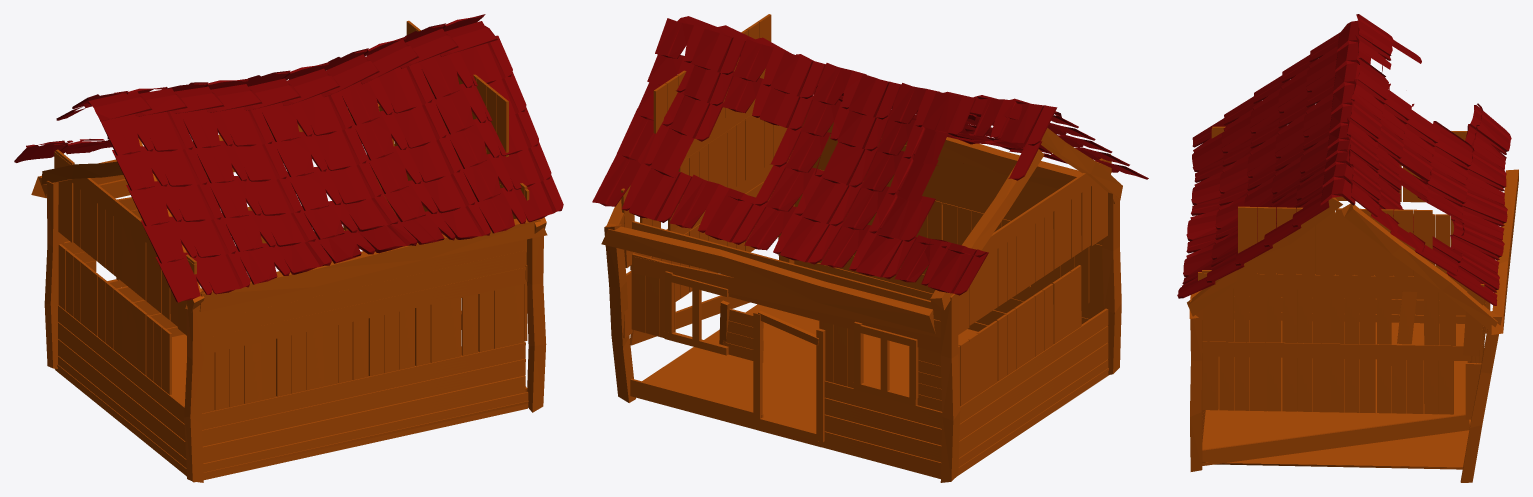
Rendered from House1.fbx.
The picture shows the model from 3 angles, left to right: view 1: azimuth 30°, elevation 25°; view 2: azimuth 150°, elevation 25°; view 3: azimuth 270°, elevation 25°; orthographic projection. The views are drawn at different scales.
Parts seen in each view (by area): view 1: House; view 2: House; view 3: House.
Boxes of the visible parts, x1=… form: House: x1=14, y1=14, x2=563, y2=482; House: x1=592, y1=14, x2=1148, y2=482; House: x1=1177, y1=14, x2=1518, y2=482.
Bounding box in the file's own units: 10.28 × 8.51 × 8.45.
